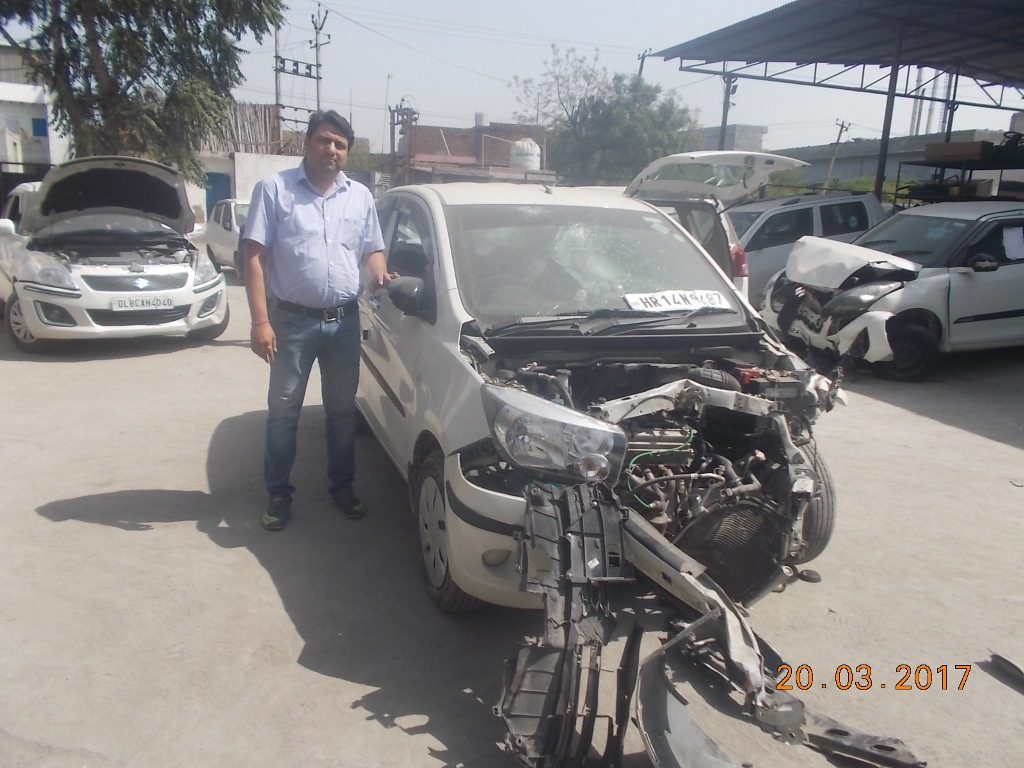Large_tear_or_damage: (417, 343, 861, 639)
